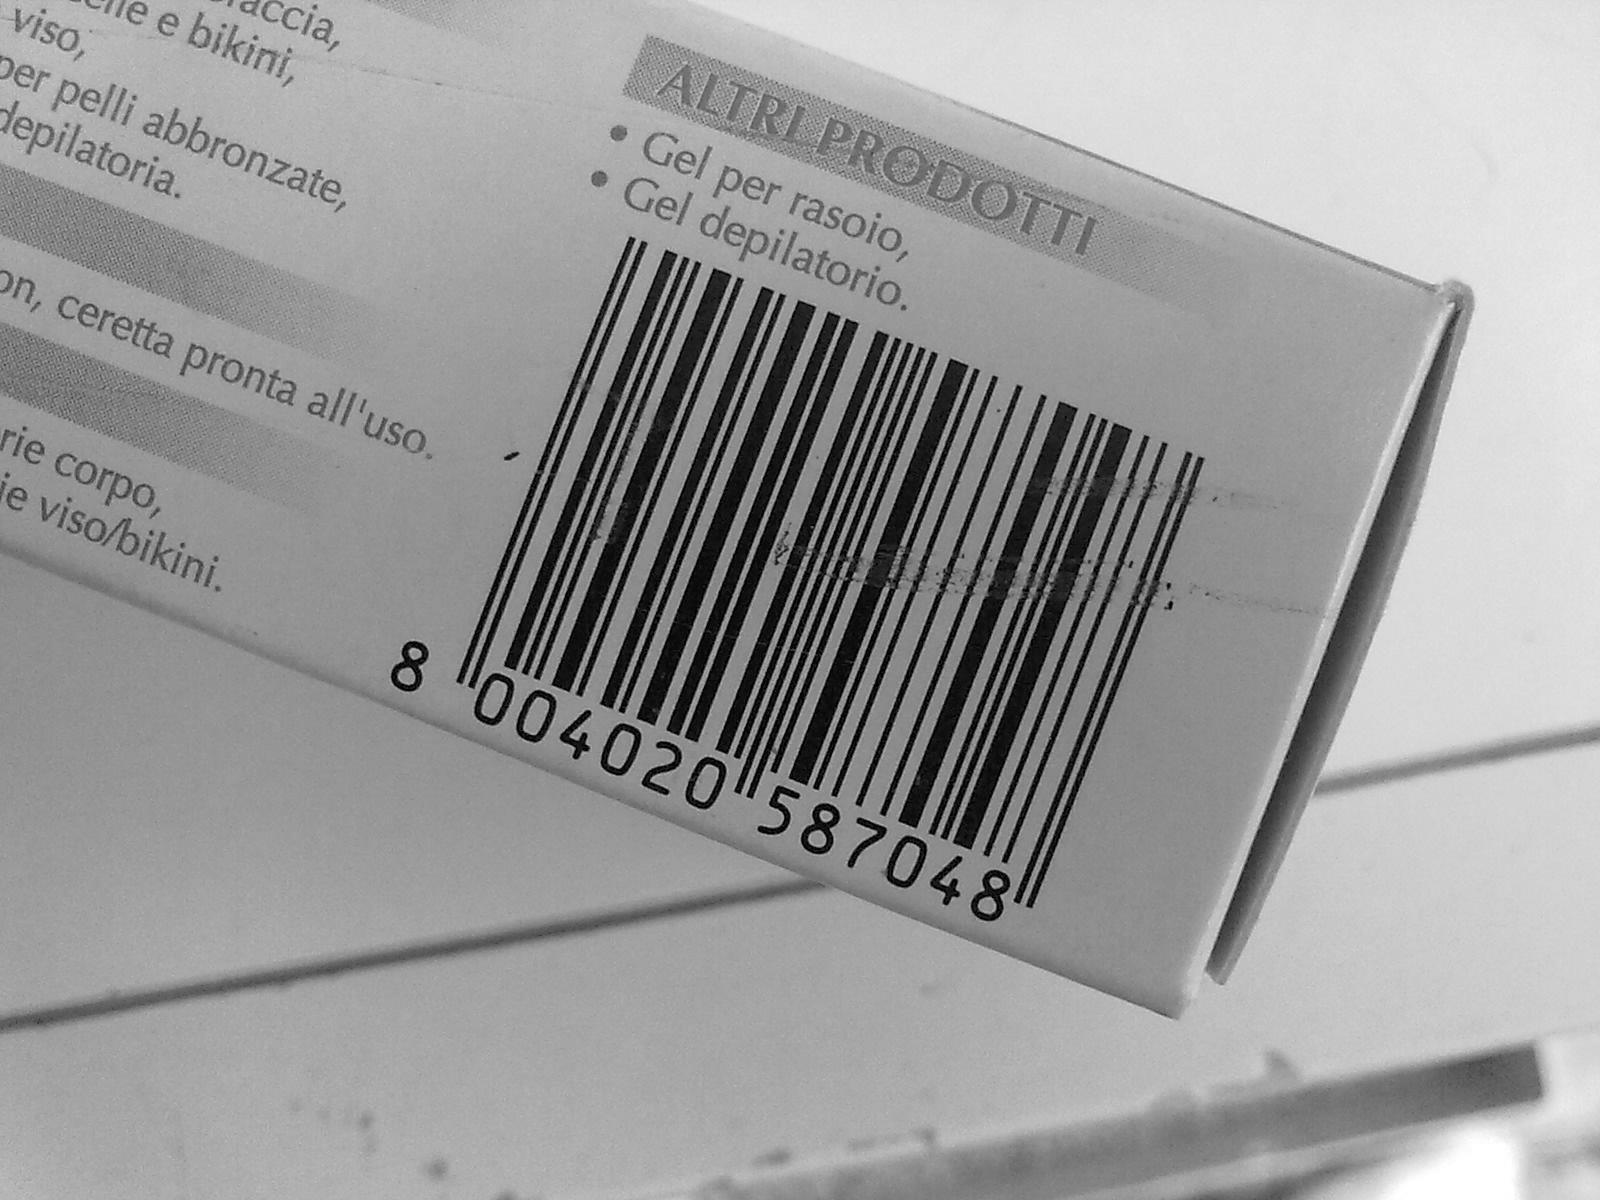Barcode: (431, 199, 1211, 929)
